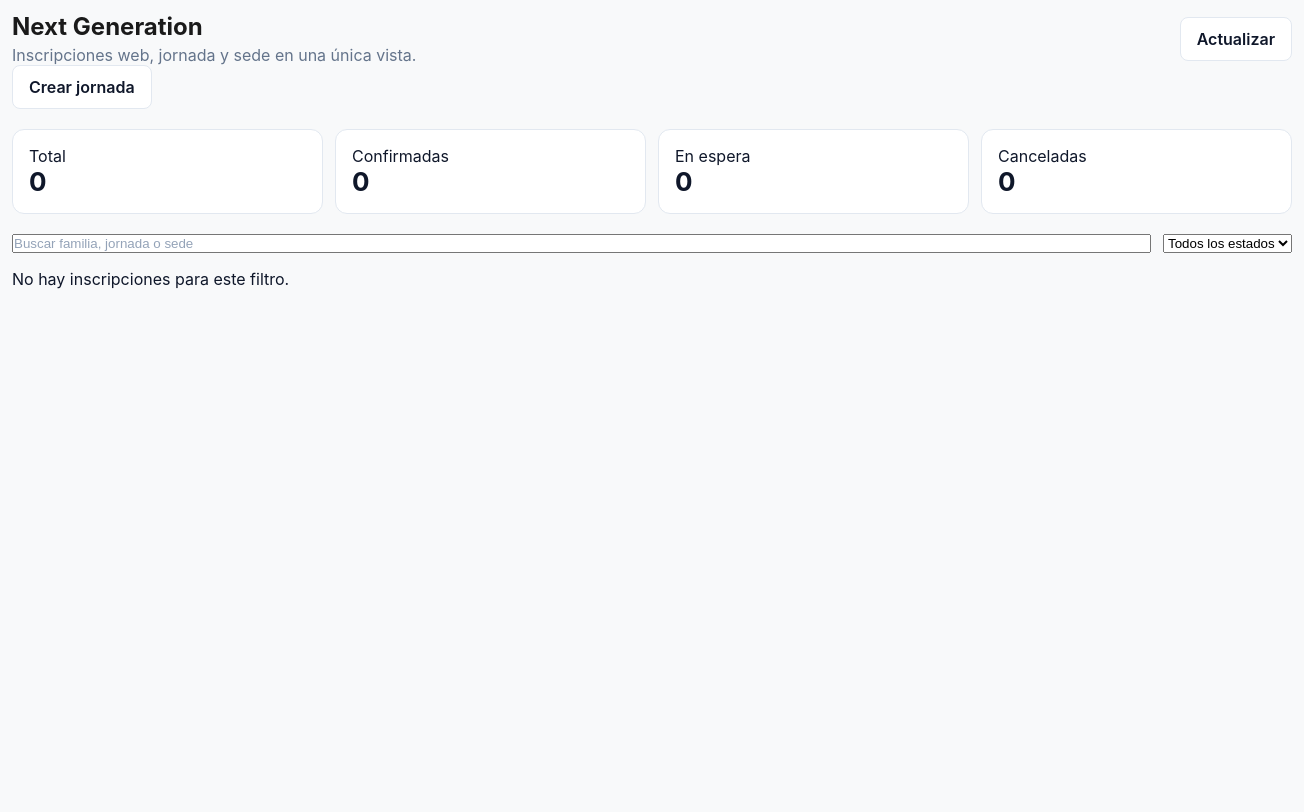
crea payload mínimo con token, exige identidad y refresca overview
Expected: the button "Actualizar" is shown, [1180,16,1292,60]
Click the button "Crear jornada": (82, 87) [12,65,152,109]
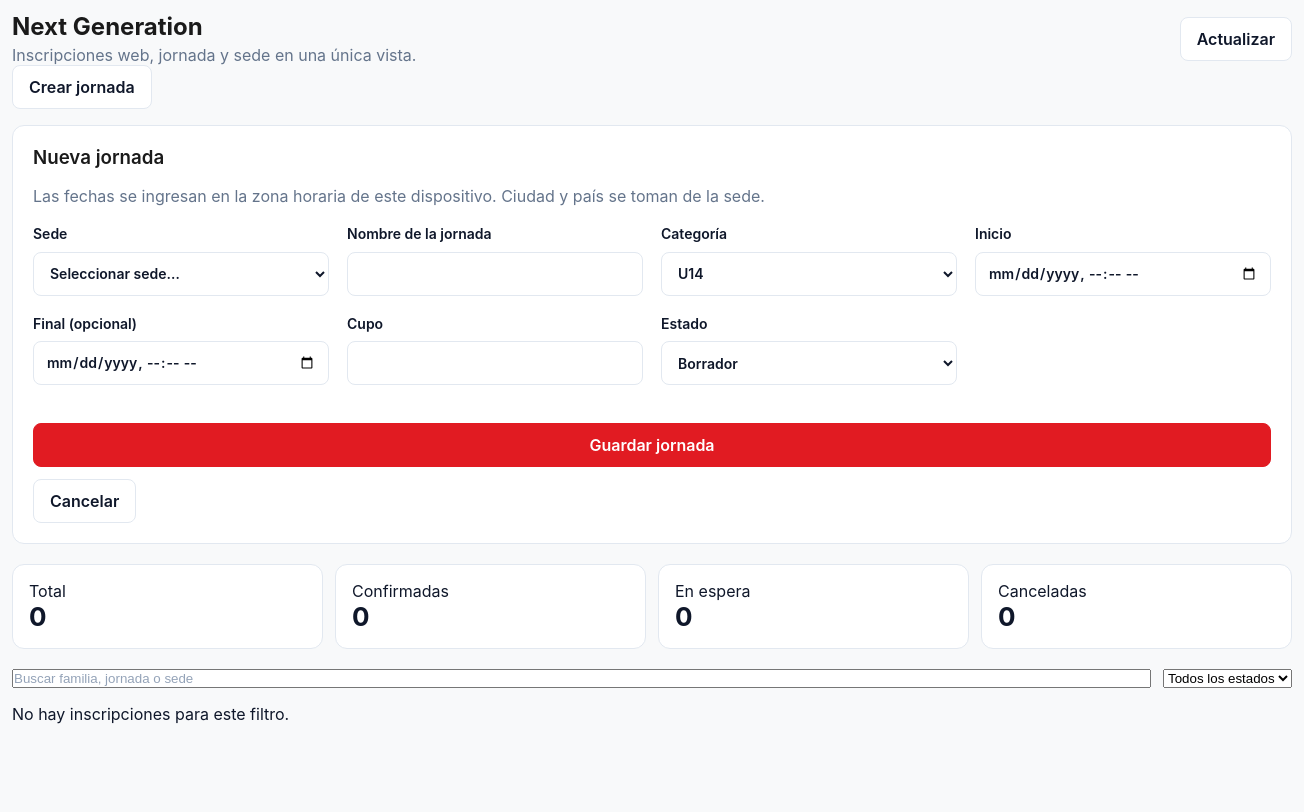
Select "Club Uno" in the dropdown labelled "Sede": (181, 274) [33,252,329,296]
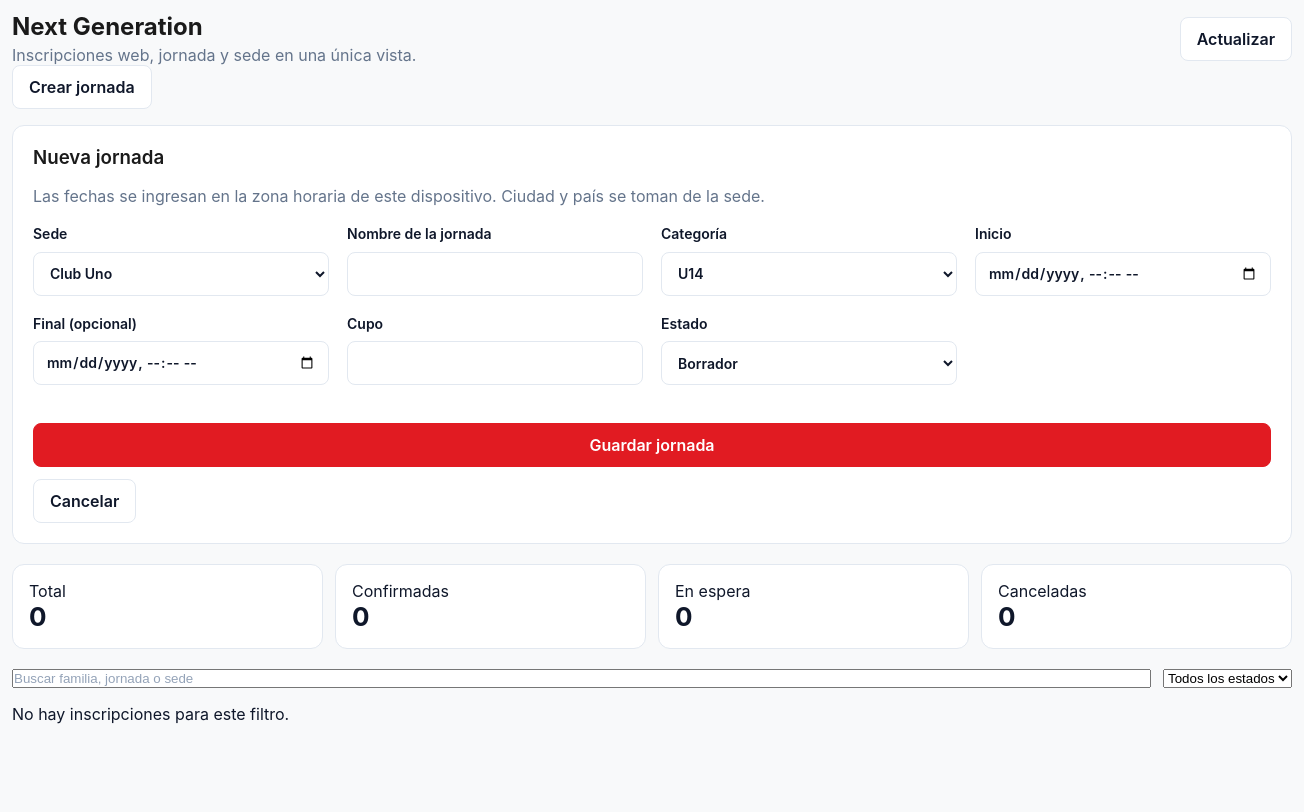
In the field labelled "Nombre de la jornada": (495, 274) [347,252,643,296], type "Jornada QA"
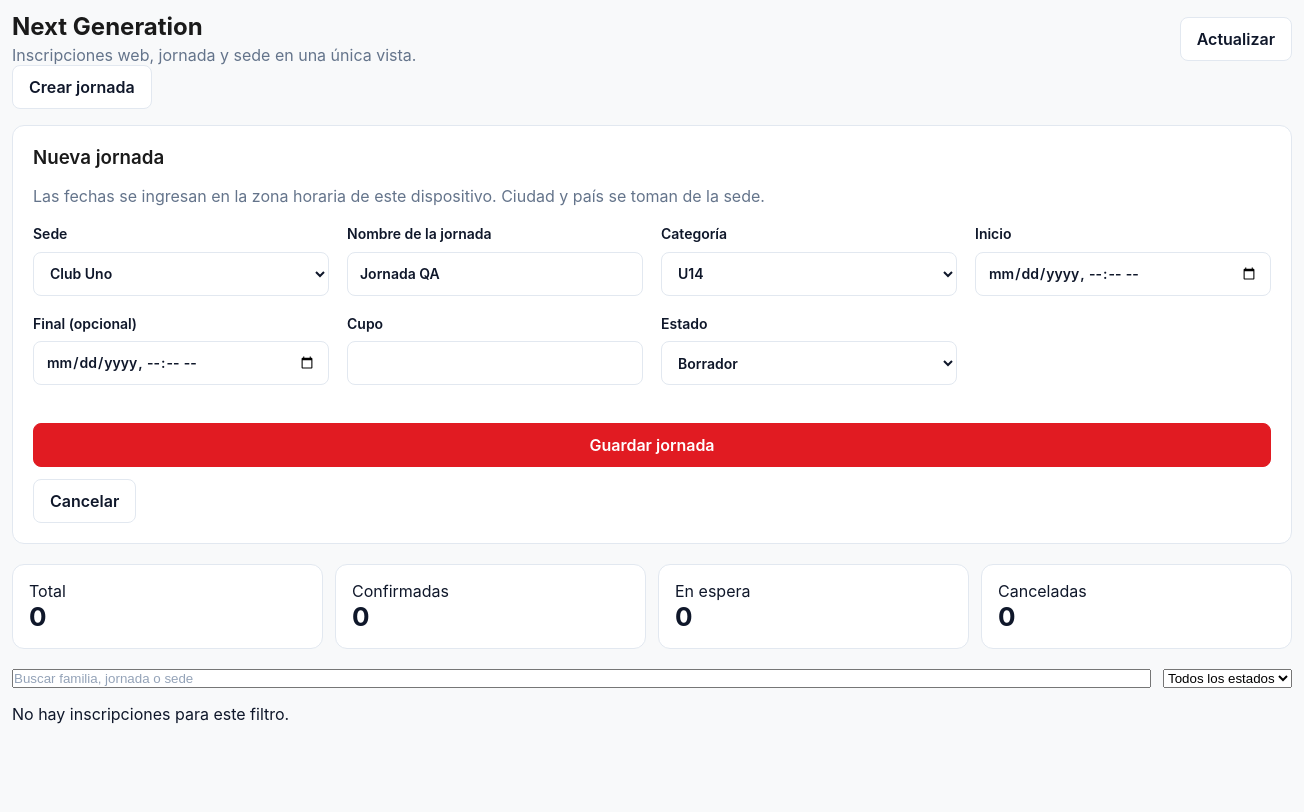
In the field labelled "Inicio": (1123, 274) [975,252,1271,296], type "2026-11-10T14:00"
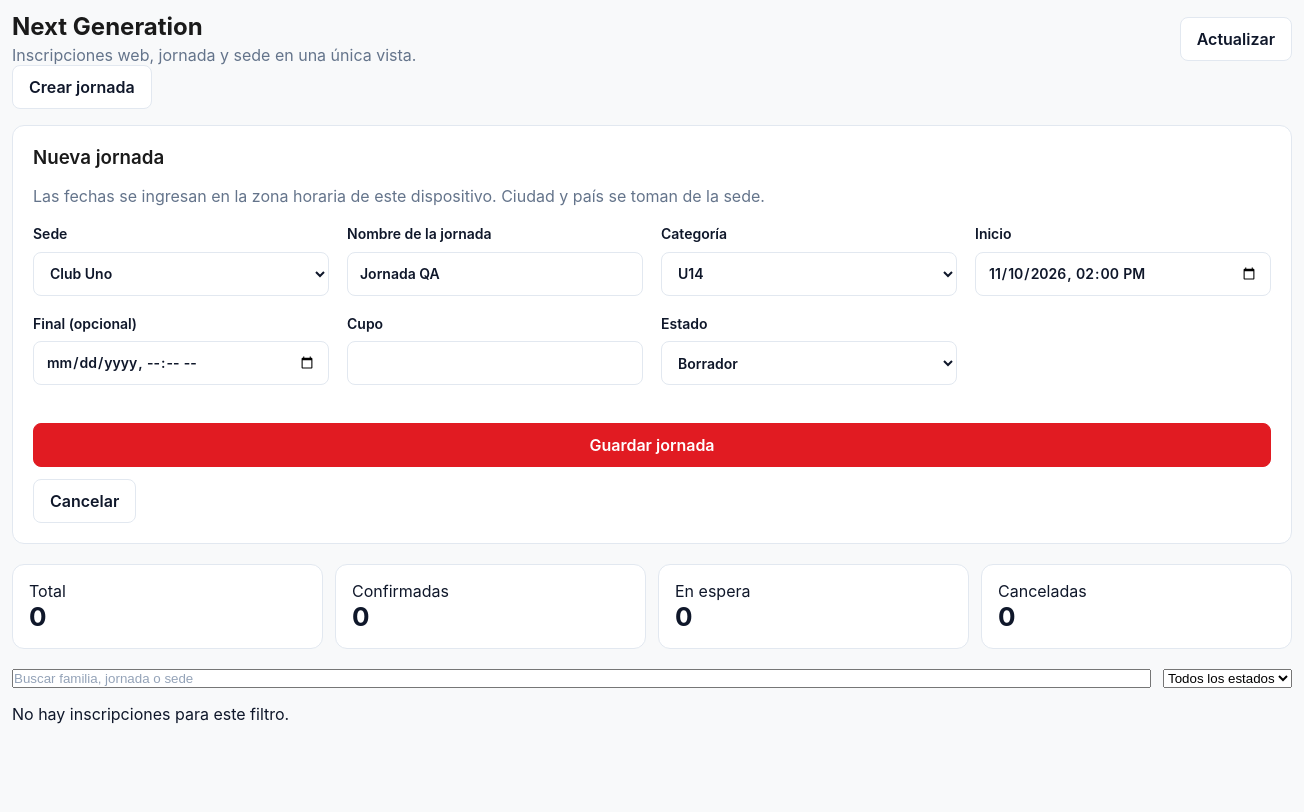
In the number field labelled "Cupo": (495, 363) [347,341,643,385], type "24"
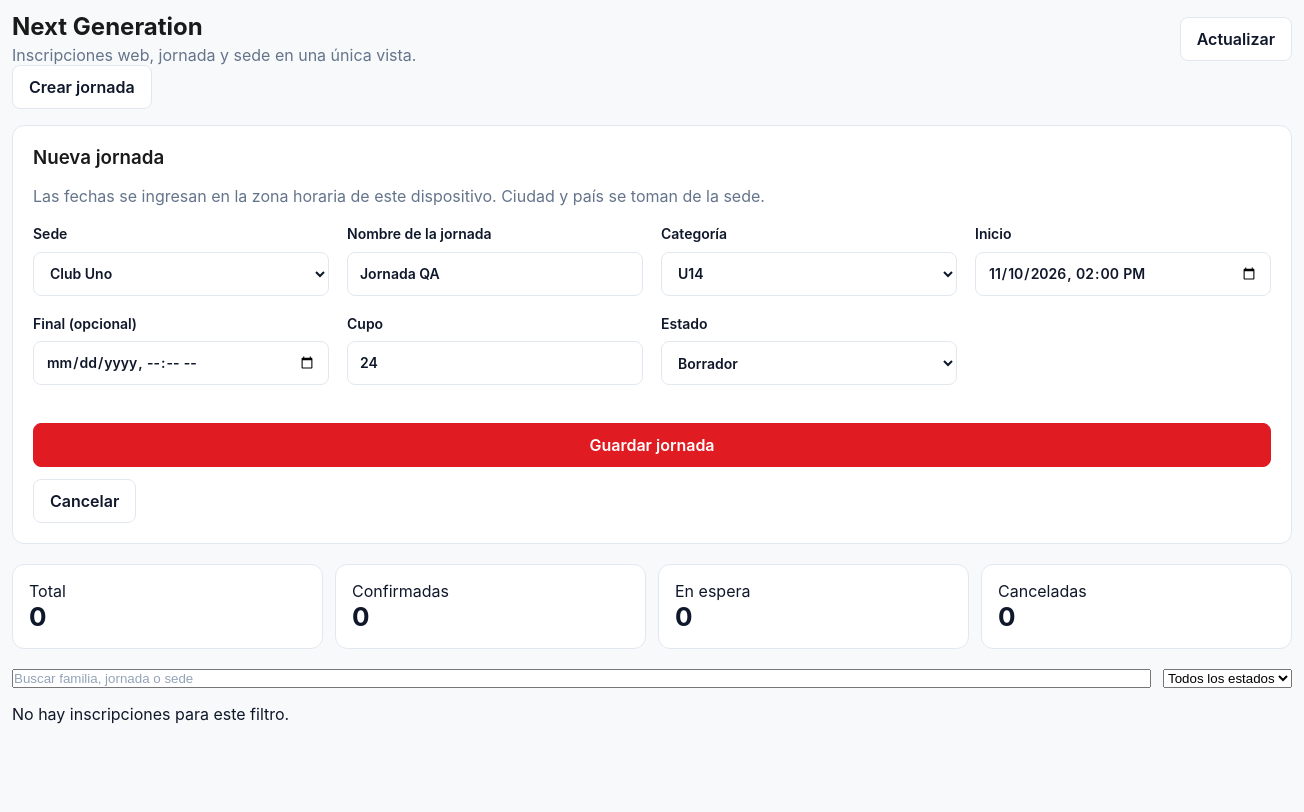
Submit the form, box [12,125,1292,544]
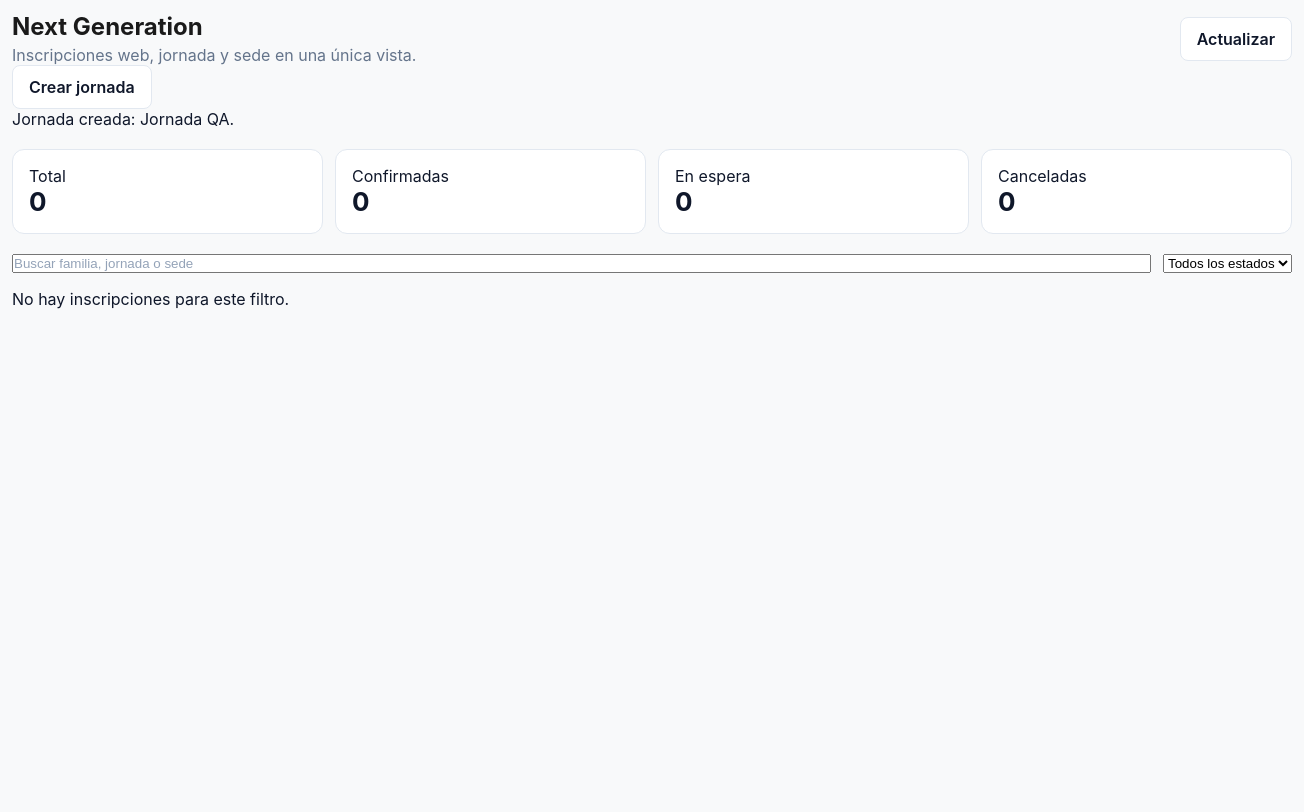
Result: the message "Jornada creada: Jornada QA." is shown at [12,109,234,129]
